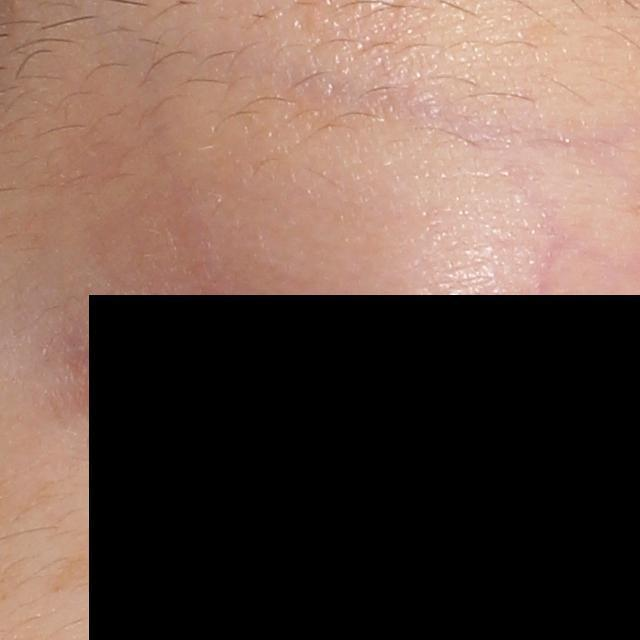melasma: (39, 545, 105, 597)
